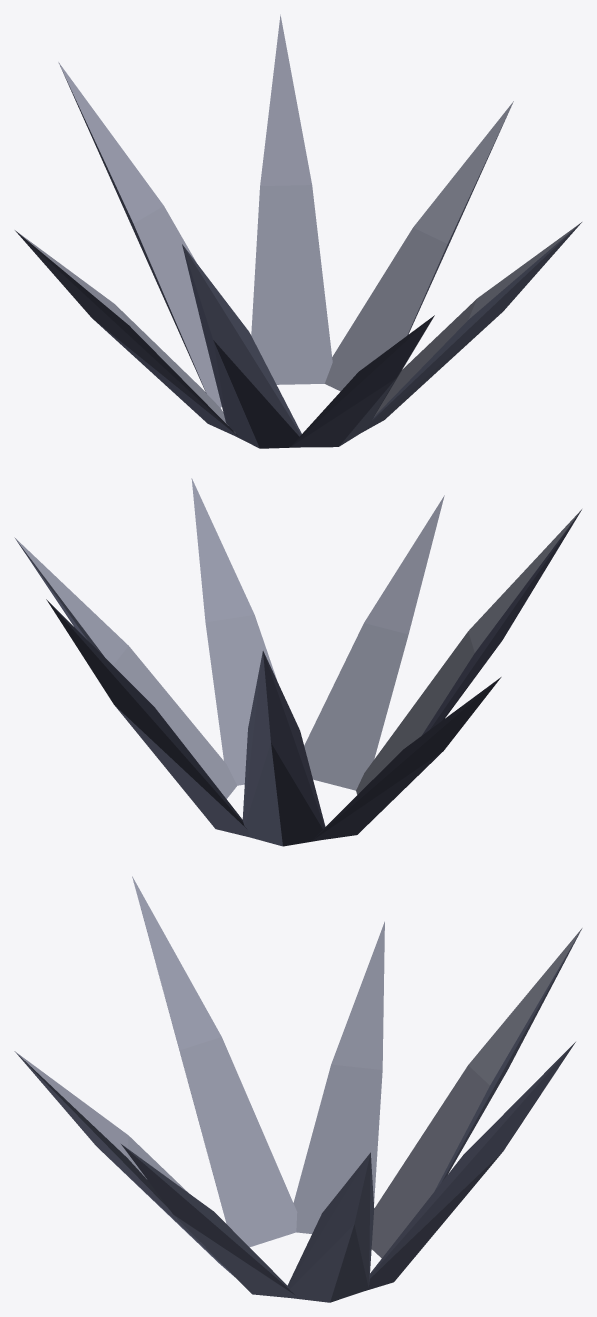
File: TW_VEG_GRASS_LOW_B_LOD0.glb
3 views of the same model, one above another, from view 1: azimuth 30°, elevation 25°; view 2: azimuth 150°, elevation 25°; view 3: azimuth 270°, elevation 25° (orthographic).
Parts seen in each view (by area): view 1: TW_VEG_GRASS_LOW_B_LOD0; view 2: TW_VEG_GRASS_LOW_B_LOD0; view 3: TW_VEG_GRASS_LOW_B_LOD0.
Boxes of the visible parts, x1,y1,x2,y2 form: TW_VEG_GRASS_LOW_B_LOD0: (15, 14, 581, 448); TW_VEG_GRASS_LOW_B_LOD0: (14, 478, 581, 846); TW_VEG_GRASS_LOW_B_LOD0: (14, 876, 582, 1302).
Size of the model in its own units: 0.4581 by 0.2517 by 0.4491.
1 material, 1 textured.
